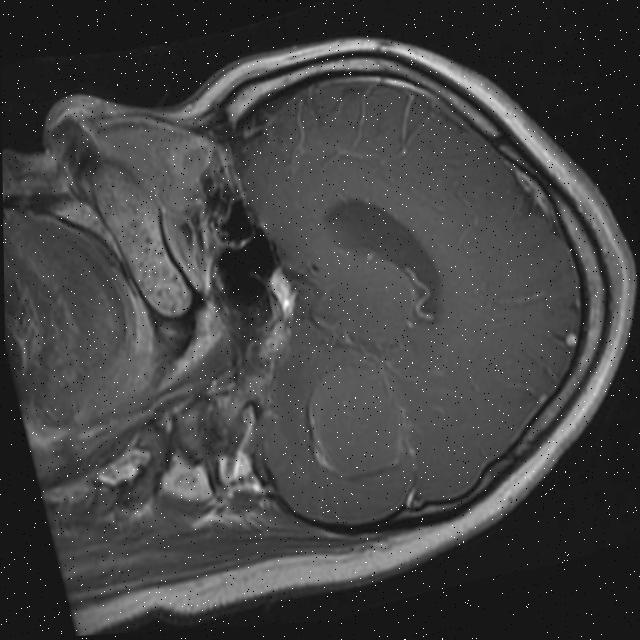Glioma: (292, 347, 417, 495)
Pituitary: (263, 259, 305, 328)
